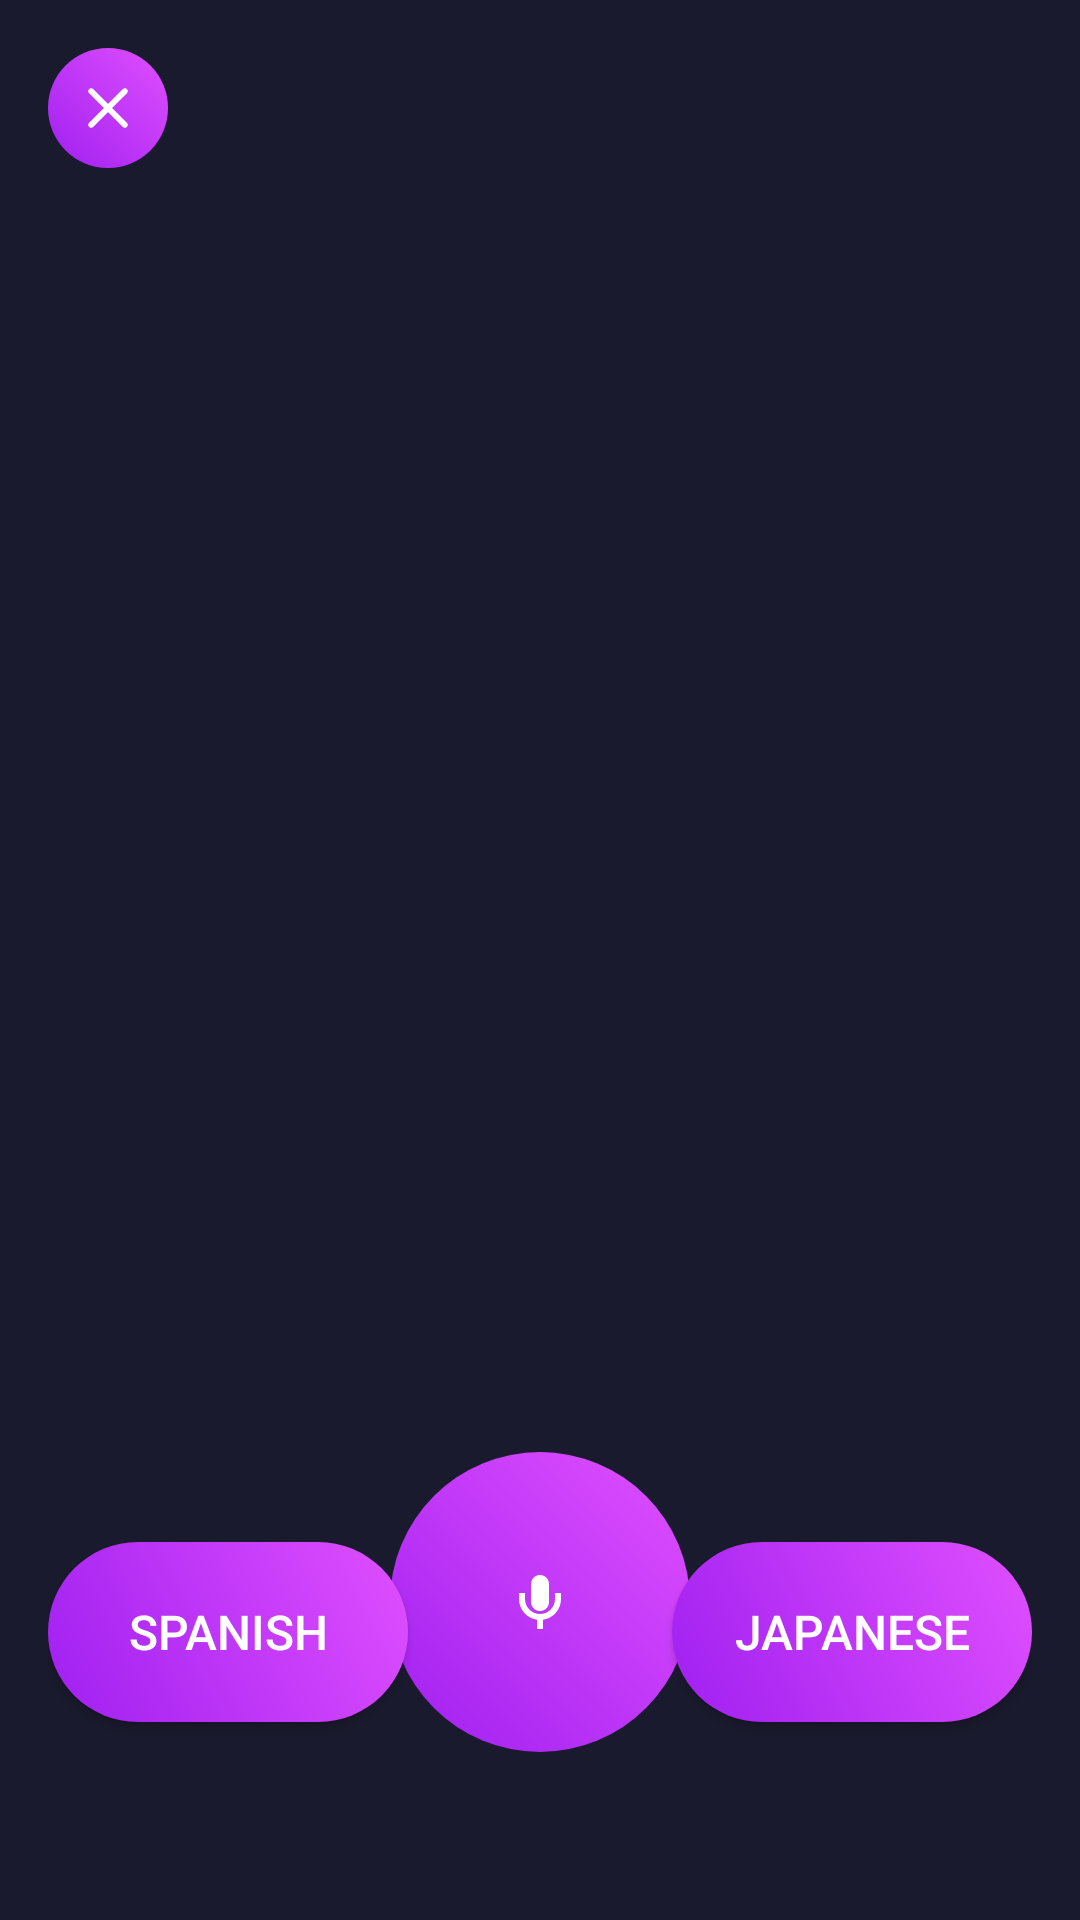

Point at icon controls on the screen. Image size 1080 × 1920, points as [x,y].
Close: [108,108]
Start Speaking: [540,1602]
